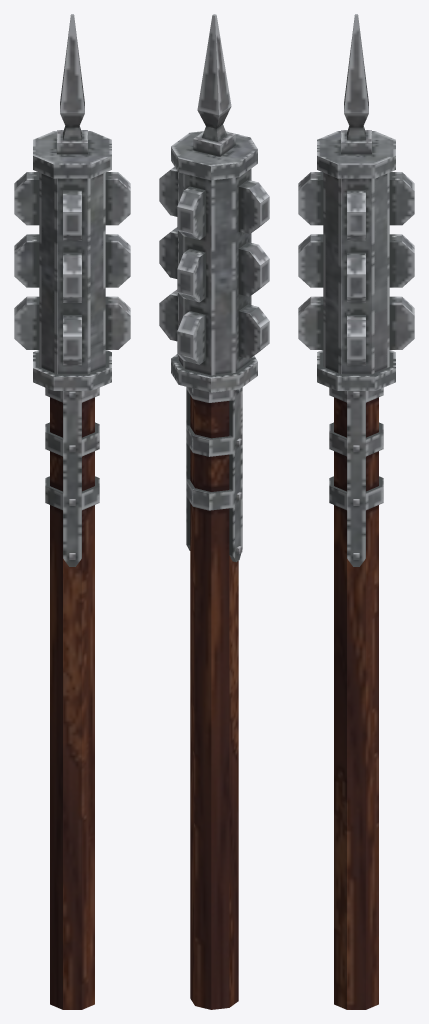
The model's file is mesh_club_blunt.fbx.
3 views of the same model, side by side, from view 1: azimuth 90°, elevation 25°; view 2: azimuth 150°, elevation 25°; view 3: azimuth 270°, elevation 25° (orthographic).
Parts seen in each view (by area): view 1: club_blunt_scaled; view 2: club_blunt_scaled; view 3: club_blunt_scaled.
Boxes of the visible parts, x1,y1,x2,y2 form: club_blunt_scaled: [14, 14, 130, 1009]; club_blunt_scaled: [159, 14, 269, 1009]; club_blunt_scaled: [298, 14, 414, 1009].
Size of the model in its own units: 13.06 by 122 by 13.06.
Materials: 2 (2 with a texture image).
